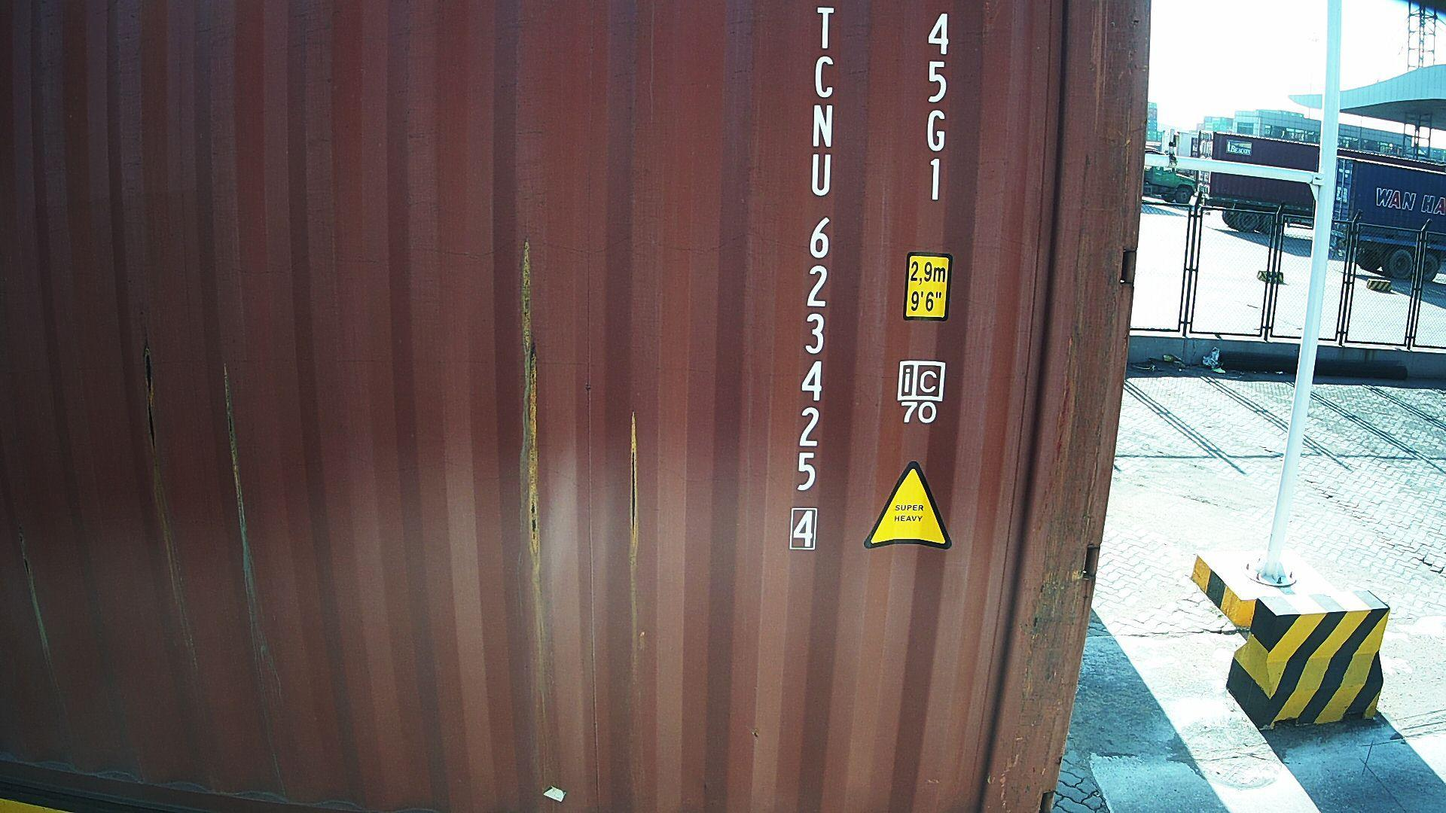container-numbers: (786, 4, 842, 553), (920, 7, 960, 208)
